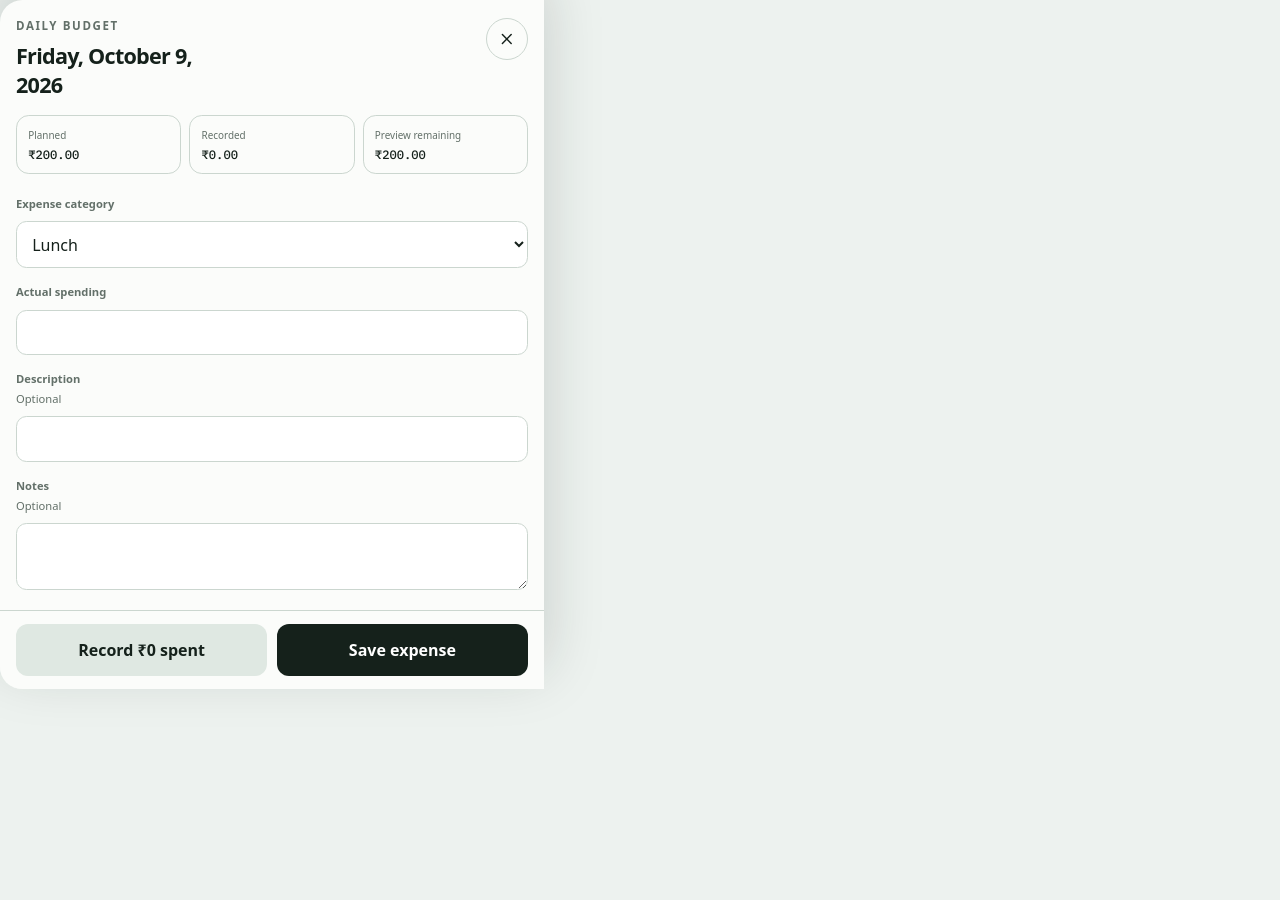
Scenario: BudgetDayEditor › previews exact overspending and saves once while the request is pending
This screenshot has width=1280, height=900.
Select "Lunch" in the dropdown labelled "Expense category" at (272, 245), box [16, 221, 528, 268]
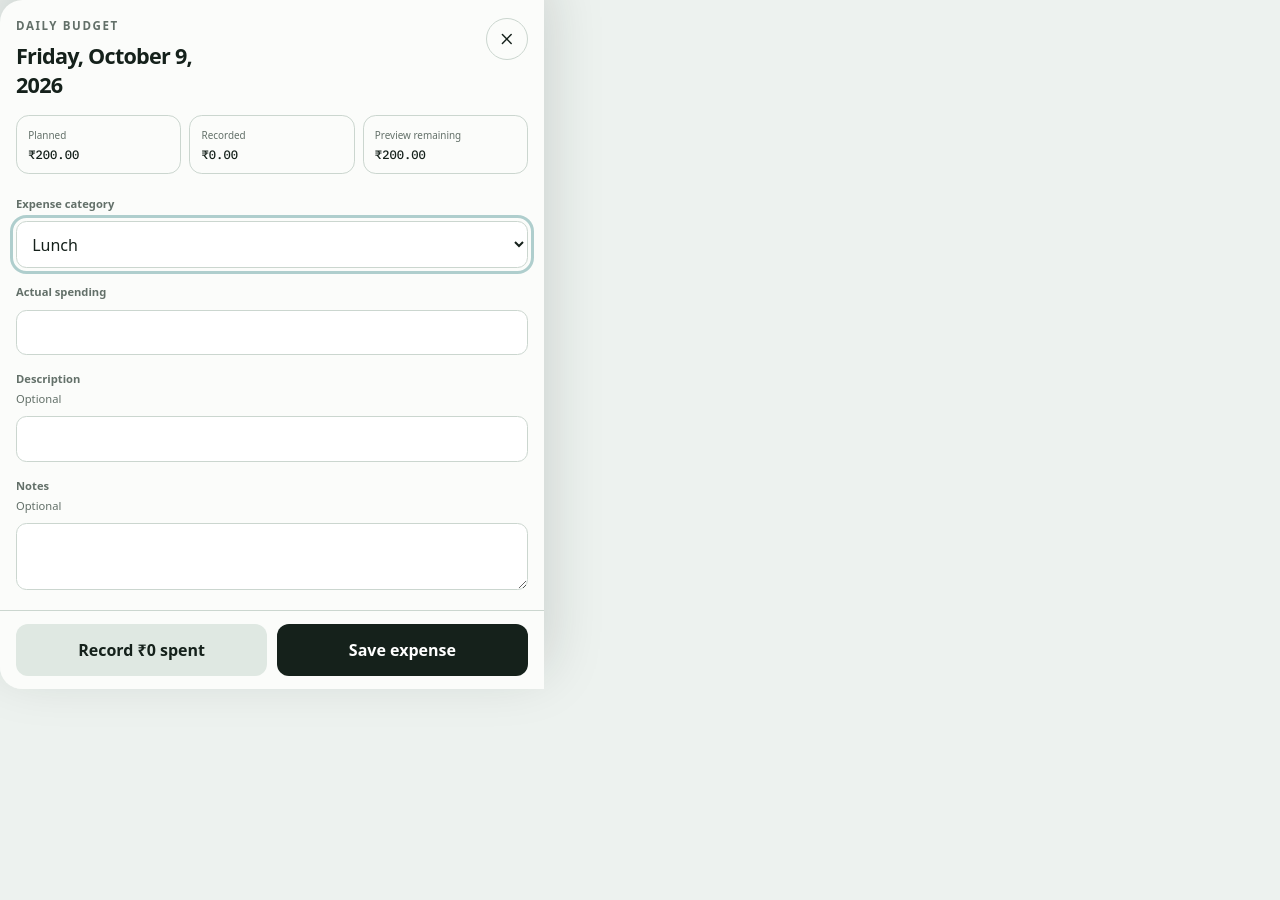
Type "250" into the field labelled "Actual spending".
click(272, 332); type("250")  # box [16, 310, 528, 355]
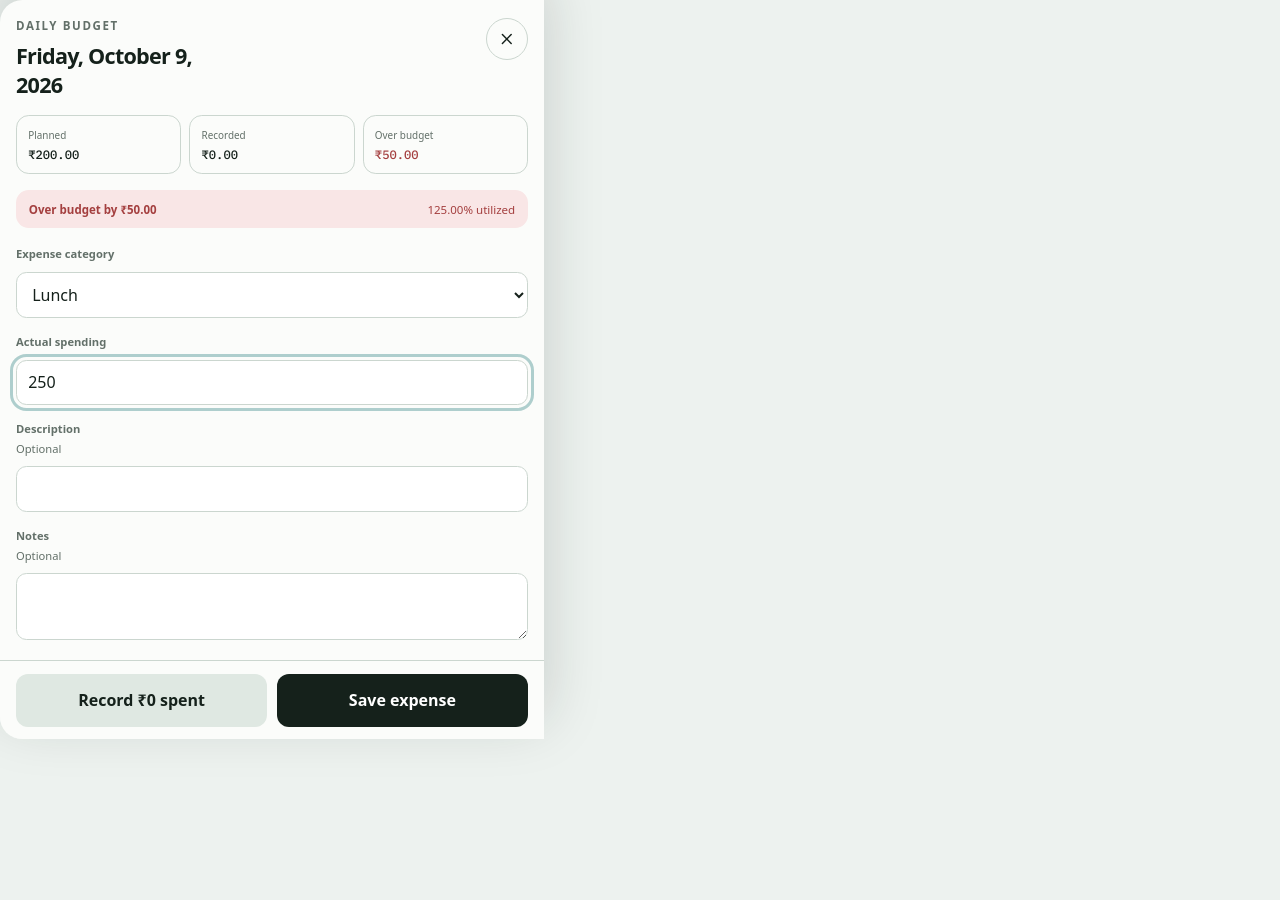
Now the text "Over budget by ₹50.00" is shown, box [29, 202, 157, 216]
Now the text "125.00% utilized" is shown, box [427, 202, 515, 216]
Click the button "Save expense".
click(402, 700)  # box [277, 674, 528, 727]
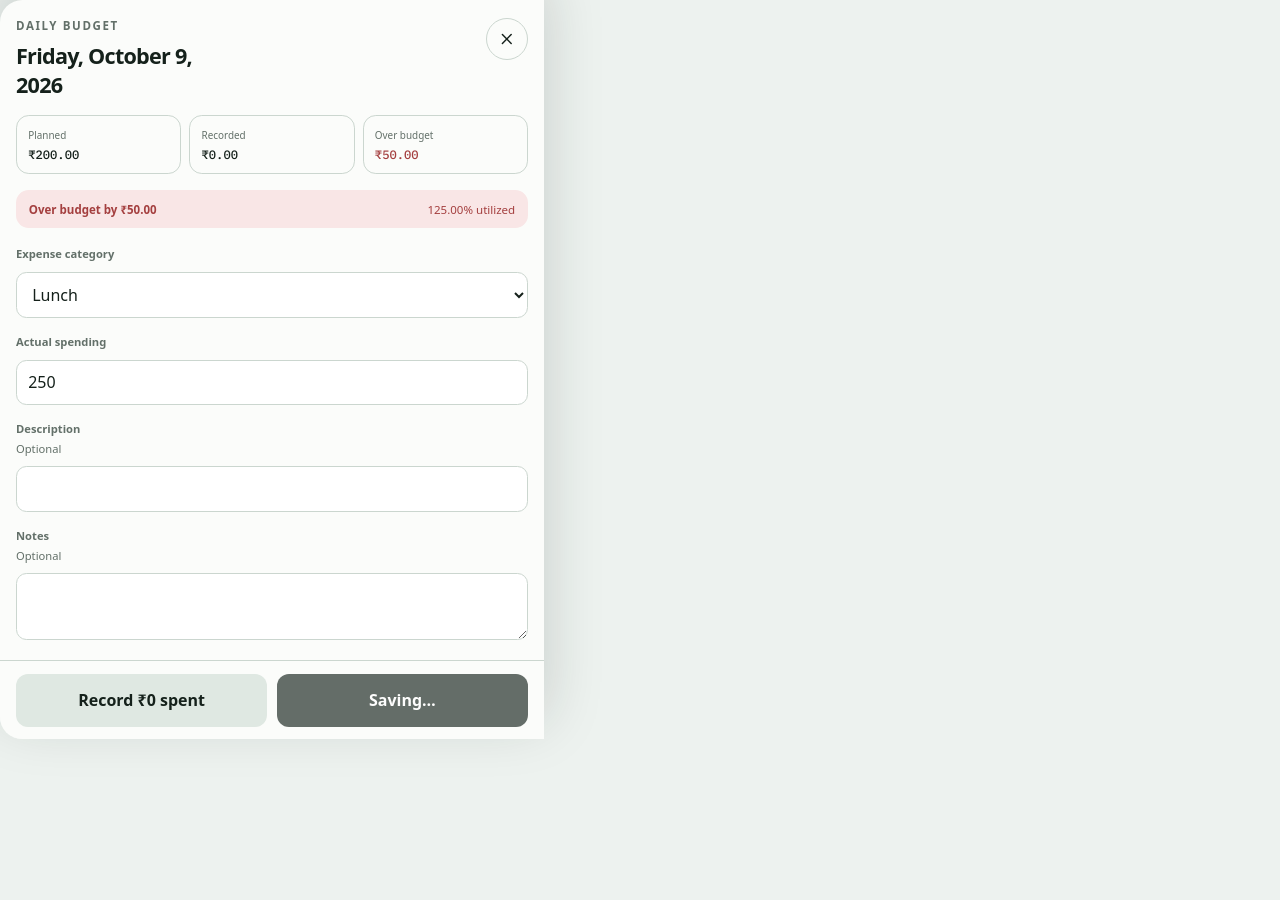
Click the button "Saving…".
click(402, 700)  # box [277, 674, 528, 727]
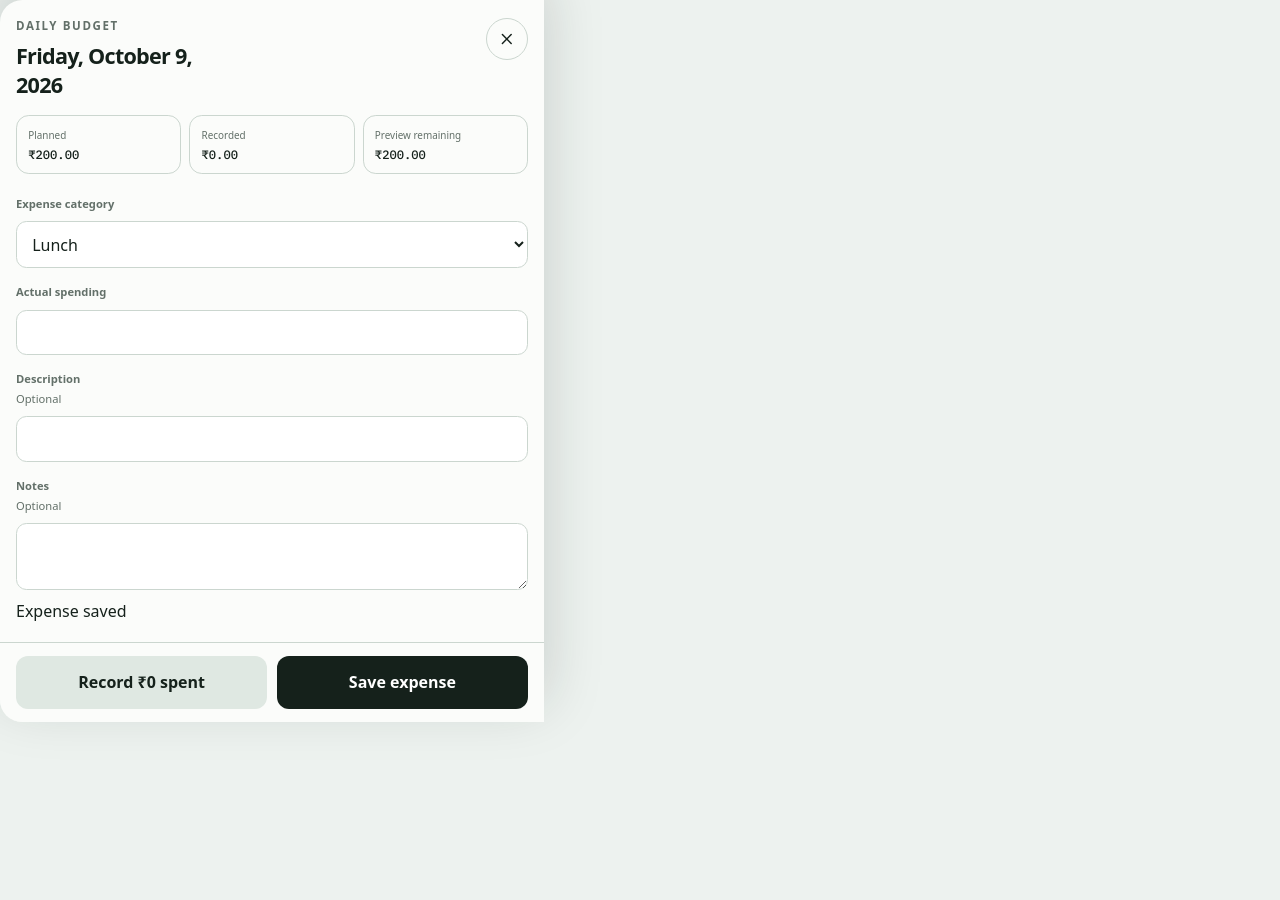
Now the message reads "Expense saved", box [16, 600, 127, 622]
